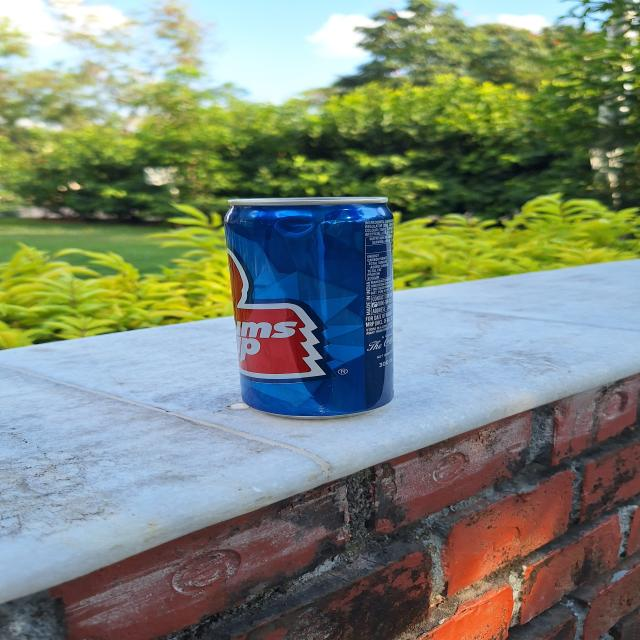Thums Up: (228, 193, 400, 420)
